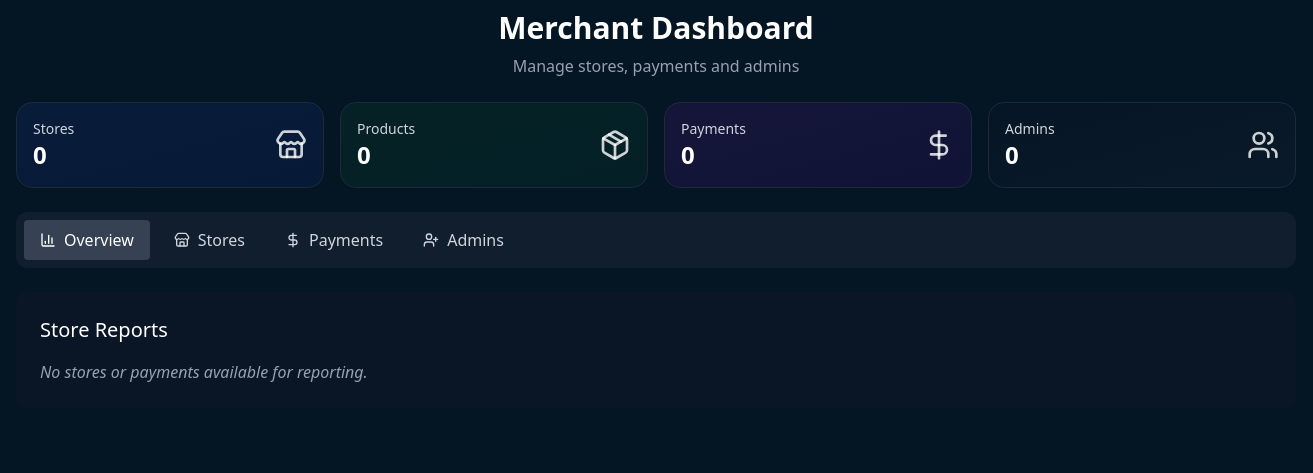
Test: MerchantDashboard › navigates to Payments tab
Click the button "Payments": (334, 240) [269,220,399,260]
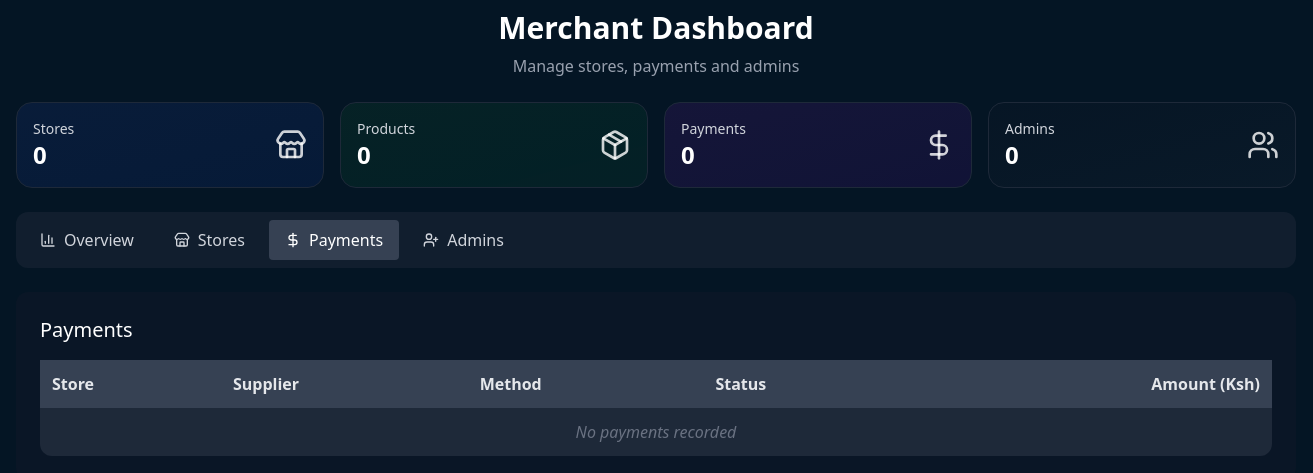
Result: the column heading "Method" is shown at [468,360,703,408]
